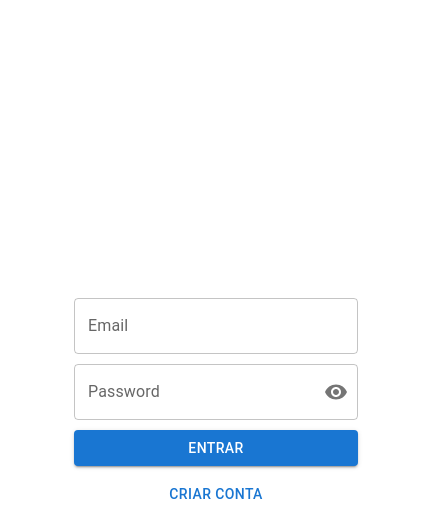
Test: Tests New Profile Page › Testing navigation to the new profile page
Click the button "Criar conta": click(216, 494) [74,476,358,512]
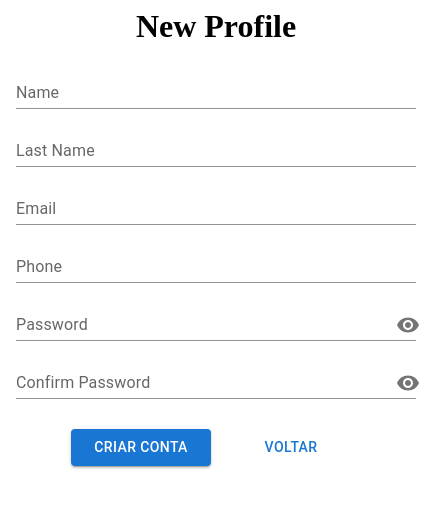
Result: the heading "New Profile" is shown at [136,8,296,45]
